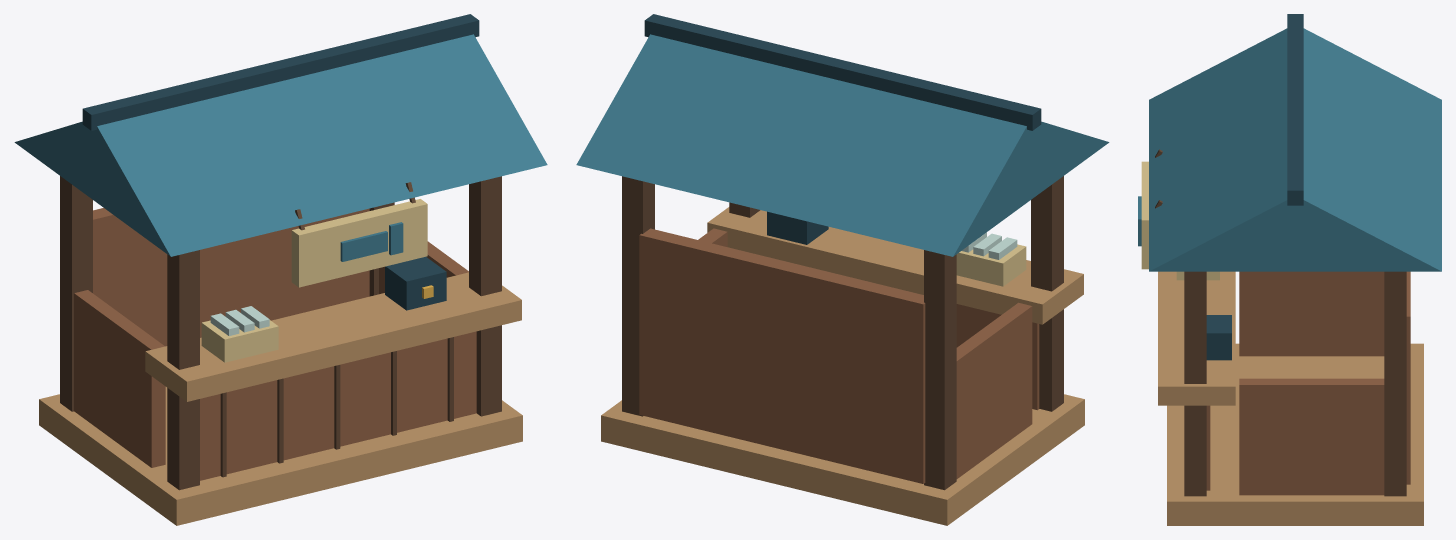
Rendered from shop.gltf.
The picture shows the model from 3 angles, left to right: view 1: azimuth 30°, elevation 25°; view 2: azimuth 150°, elevation 25°; view 3: azimuth 270°, elevation 25°; orthographic projection. The views are drawn at different scales.
Parts seen in each view (by area): view 1: shop; view 2: shop; view 3: shop.
Part boxes in pixels (x1,y1,x2,y2): shop: (14, 14, 547, 525); shop: (576, 14, 1109, 525); shop: (1138, 14, 1441, 525).
Bounding box in the file's own units: 2.8 × 2.55 × 2.03.
